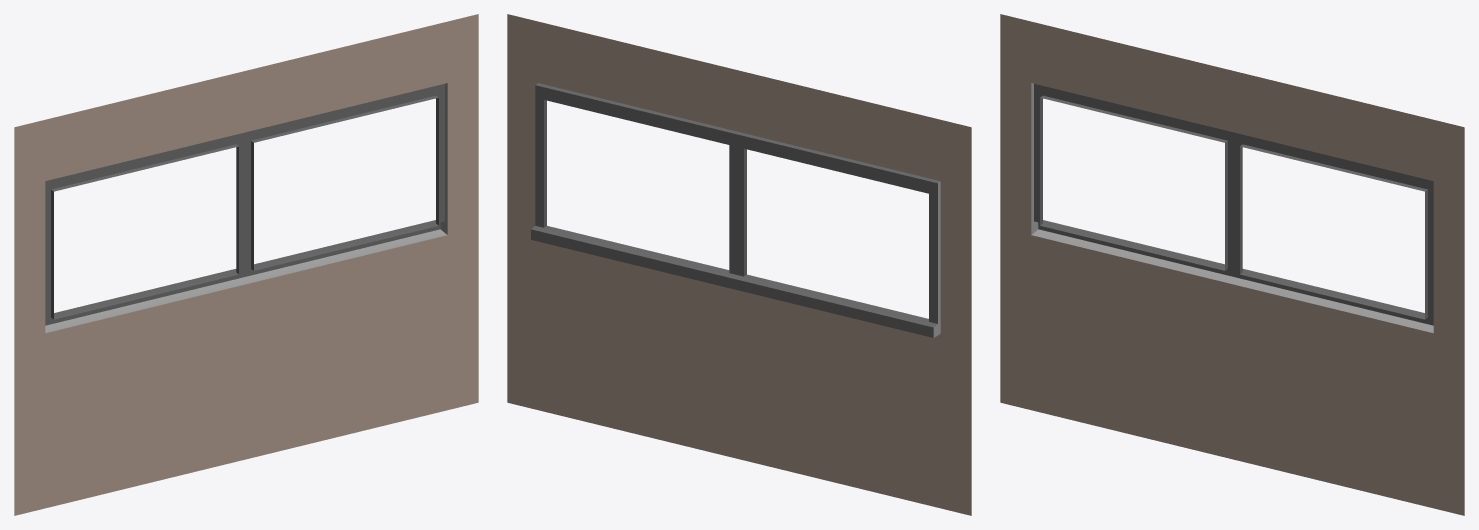
Rendered from wallHallway.fbx.
3 renders of one model, left to right at view 1: azimuth 30°, elevation 25°; view 2: azimuth 150°, elevation 25°; view 3: azimuth 330°, elevation 25°, orthographic.
Parts seen in each view (by area): view 1: WallWindow_Hallway1; view 2: WallWindow_Hallway1; view 3: WallWindow_Hallway1.
Boxes of the visible parts, x1,y1,x2,y2 form: WallWindow_Hallway1: (14,14,478,515); WallWindow_Hallway1: (507,14,971,515); WallWindow_Hallway1: (1000,14,1464,515).
Size of the model in its own units: 350 by 280 by 9.39.
